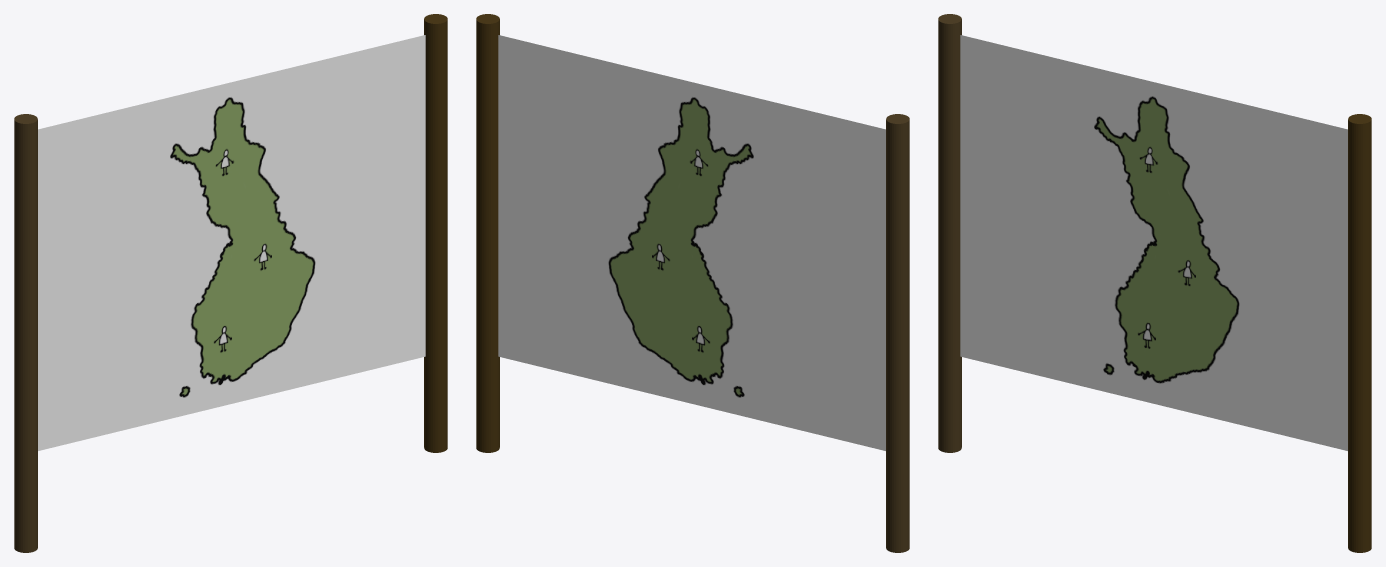
Rendered from Funfact_Finland.glb.
3 views of the same model, side by side, from view 1: azimuth 30°, elevation 25°; view 2: azimuth 150°, elevation 25°; view 3: azimuth 330°, elevation 25° (orthographic).
Visible parts, largest first — view 1: Plane, Cylinder, Cylinder.001; view 2: Plane, Cylinder, Cylinder.001; view 3: Plane, Cylinder.001, Cylinder.
Part boxes in pixels (bbox=[...]): Plane: bbox=[38, 35, 425, 450]; Cylinder: bbox=[14, 114, 37, 552]; Cylinder.001: bbox=[424, 14, 447, 452]; Plane: bbox=[498, 35, 885, 450]; Cylinder: bbox=[886, 114, 909, 552]; Cylinder.001: bbox=[476, 14, 499, 452]; Plane: bbox=[960, 35, 1347, 450]; Cylinder.001: bbox=[1348, 114, 1371, 552]; Cylinder: bbox=[938, 14, 961, 452].
Size of the model in its own units: 4.2 by 4 by 0.2.
3 materials, 1 textured.
